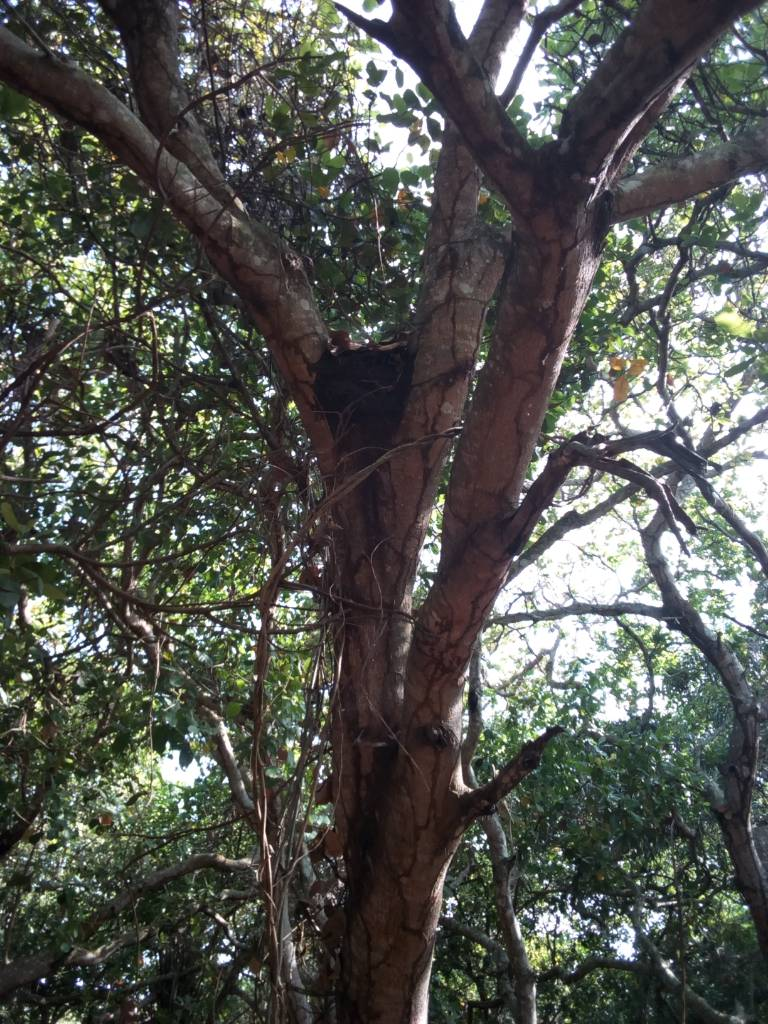Termites: (500, 255, 571, 500), (385, 761, 449, 1002), (427, 549, 490, 725), (311, 342, 408, 441)
